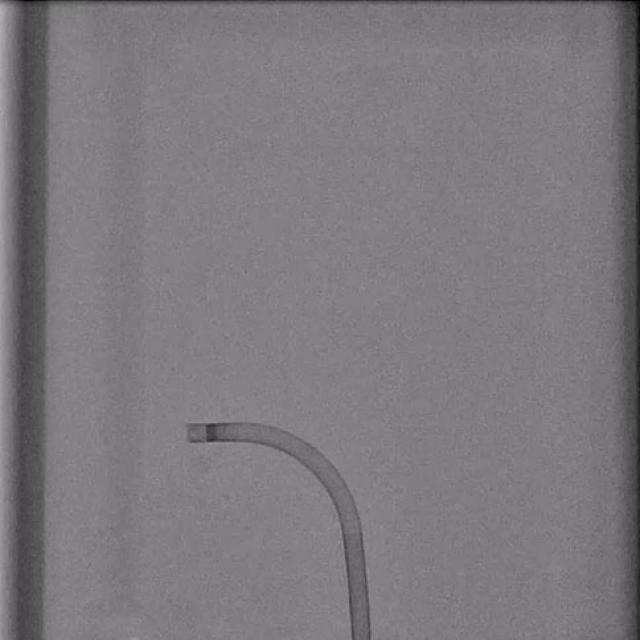bend: (342, 524, 364, 534)
entry: (351, 634, 371, 640)
marker: (204, 424, 220, 442)
tip: (184, 424, 194, 442)
